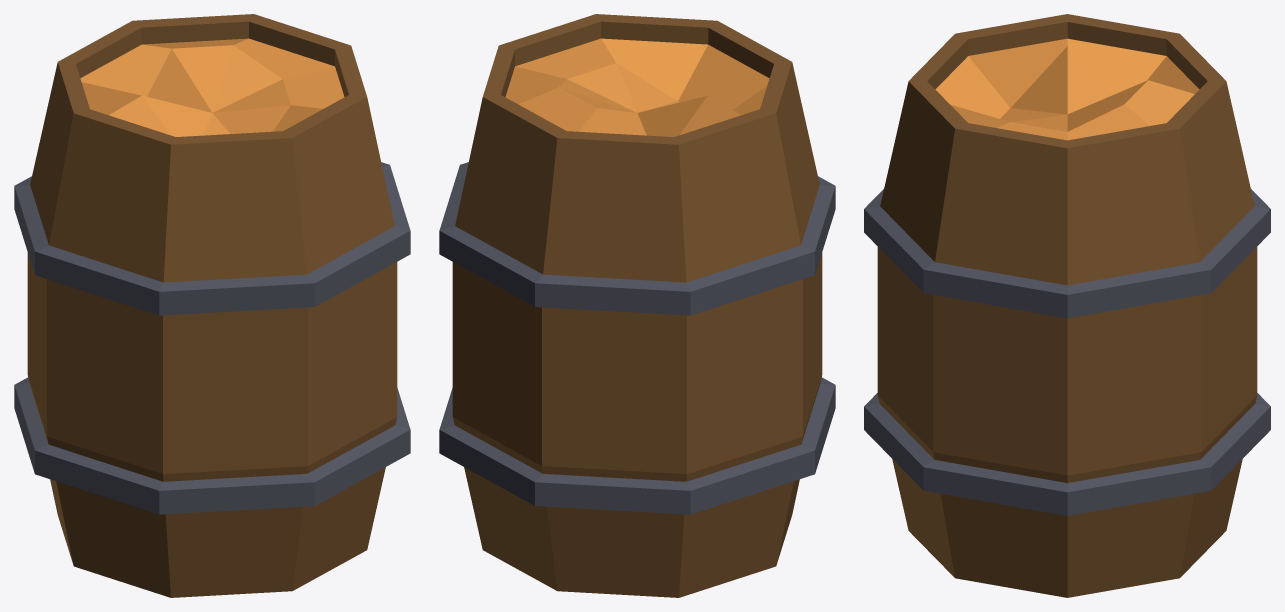
The model's file is spice barrel r.fbx.
The picture shows the model from 3 angles, left to right: view 1: azimuth 30°, elevation 25°; view 2: azimuth 150°, elevation 25°; view 3: azimuth 270°, elevation 25°; orthographic projection.
Parts seen in each view (by area): view 1: Barrel.001; view 2: Barrel.001; view 3: Barrel.001.
Part boxes in pixels (box(x1,y1,x2,y2)): Barrel.001: box(14, 14, 410, 597); Barrel.001: box(439, 14, 835, 597); Barrel.001: box(864, 14, 1270, 597).
Size of the model in its own units: 189 by 231 by 189.
